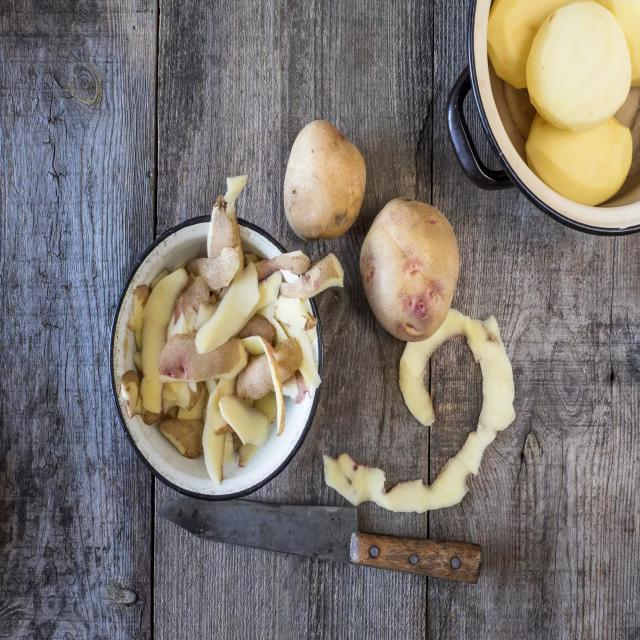organic: (324, 308, 516, 514), (141, 267, 188, 413), (194, 260, 259, 352), (158, 332, 246, 383), (235, 337, 303, 398), (279, 253, 344, 302), (217, 396, 271, 448), (158, 419, 206, 459)
